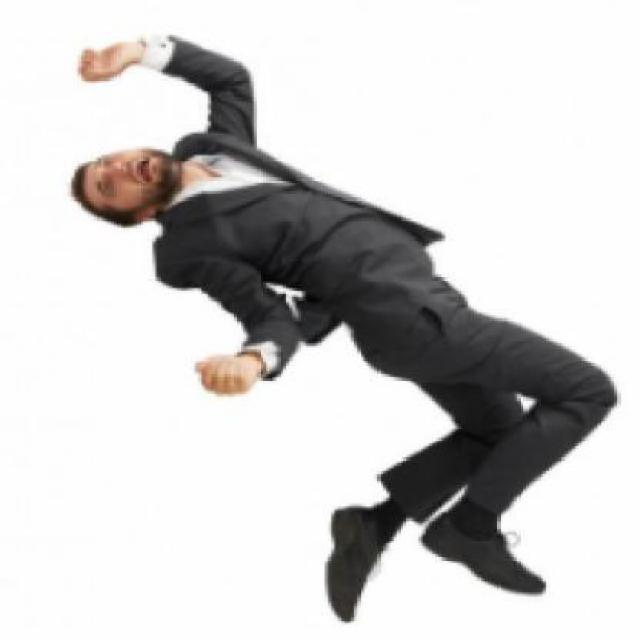fall: (58, 36, 624, 636)
